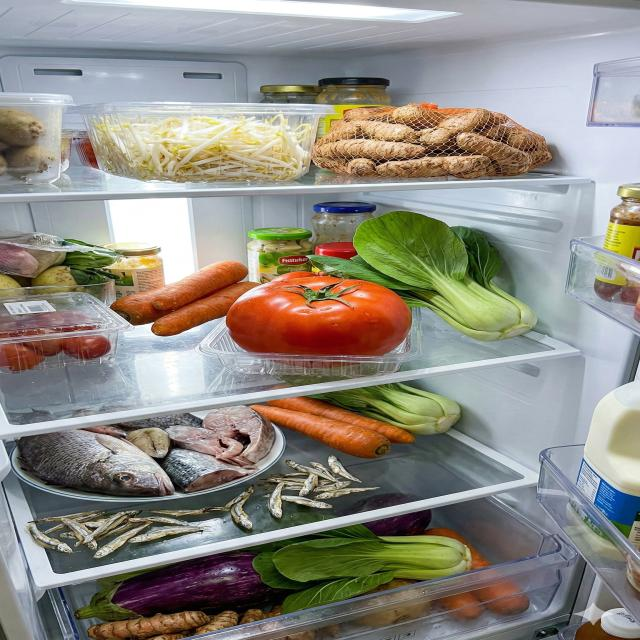anchovies: (24, 454, 381, 560)
bean_sprouts: (90, 111, 312, 183)
carrot: (110, 260, 263, 336), (248, 396, 415, 458), (422, 526, 530, 620)
eggplant: (73, 550, 287, 622)
fish: (13, 405, 274, 497)
pakchoy: (306, 211, 538, 342), (252, 512, 472, 616), (304, 382, 461, 436)
tomato: (225, 271, 412, 368)
turmeric: (312, 104, 553, 180), (86, 610, 283, 640)
